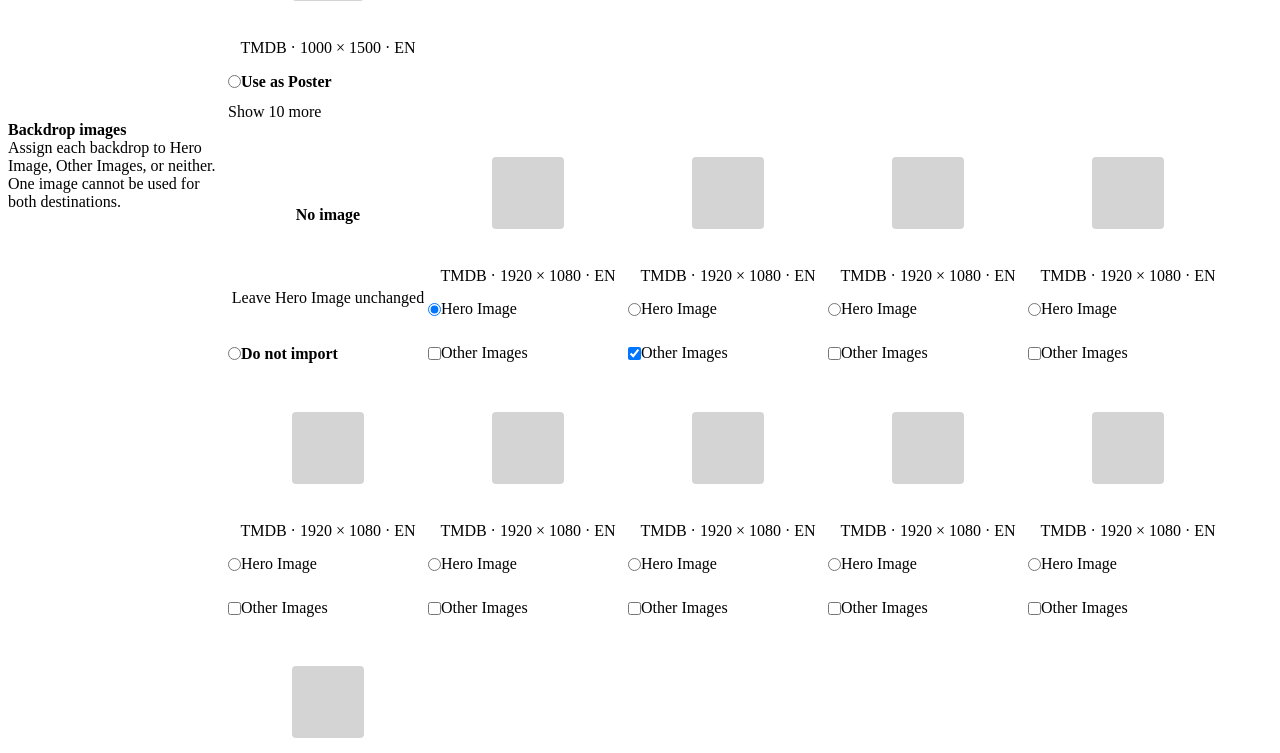
it: ImagePicker › keeps Hero Image and Other Images mutually exclusive as either control is chosen
(page scrolled)
Expected: the 1st radio button labelled "Hero Image" is checked, [428,303,441,316]
Click the 1st checkbox labelled "Other Images".
click(434, 354)  # box [428,347,441,360]
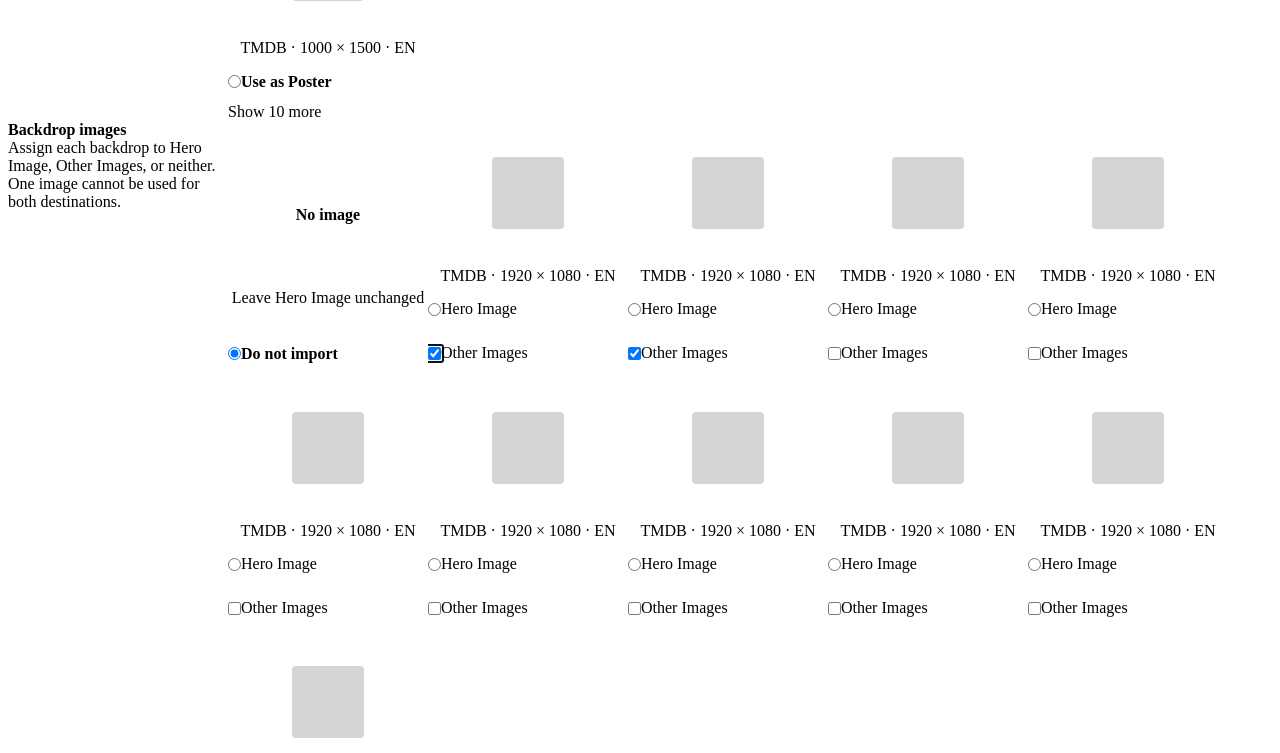
Expected: the 2nd checkbox labelled "Other Images" is checked, [628,347,641,360]
Expected: the 1st checkbox labelled "Other Images" is checked, [428,347,441,360]
Expected: the 1st radio button labelled "Hero Image" is not checked, [428,303,441,316]
Click the 2nd radio button labelled "Hero Image".
click(634, 310)  # box [628,303,641,316]
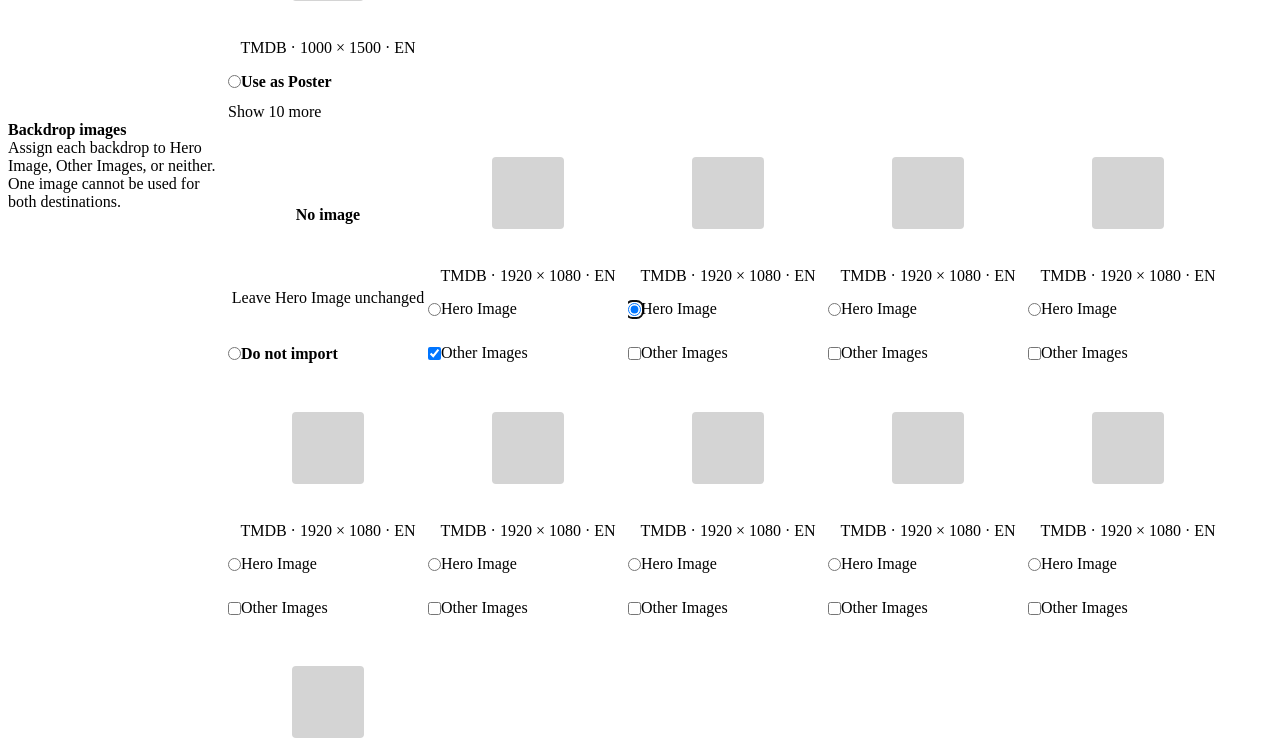
Expected: the 2nd radio button labelled "Hero Image" is checked, [628,303,641,316]
Expected: the 2nd checkbox labelled "Other Images" is not checked, [628,347,641,360]
